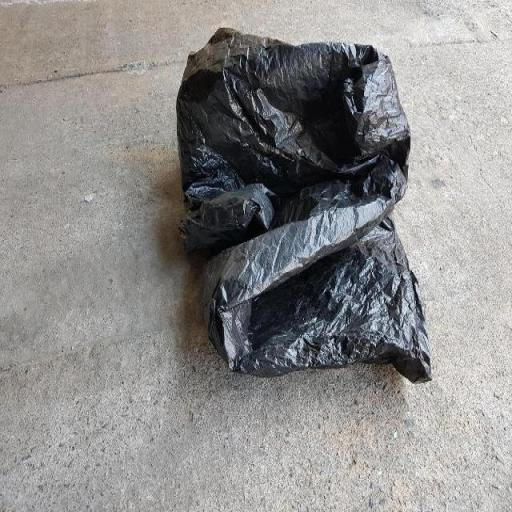plastic-bag: (176, 25, 434, 390)
